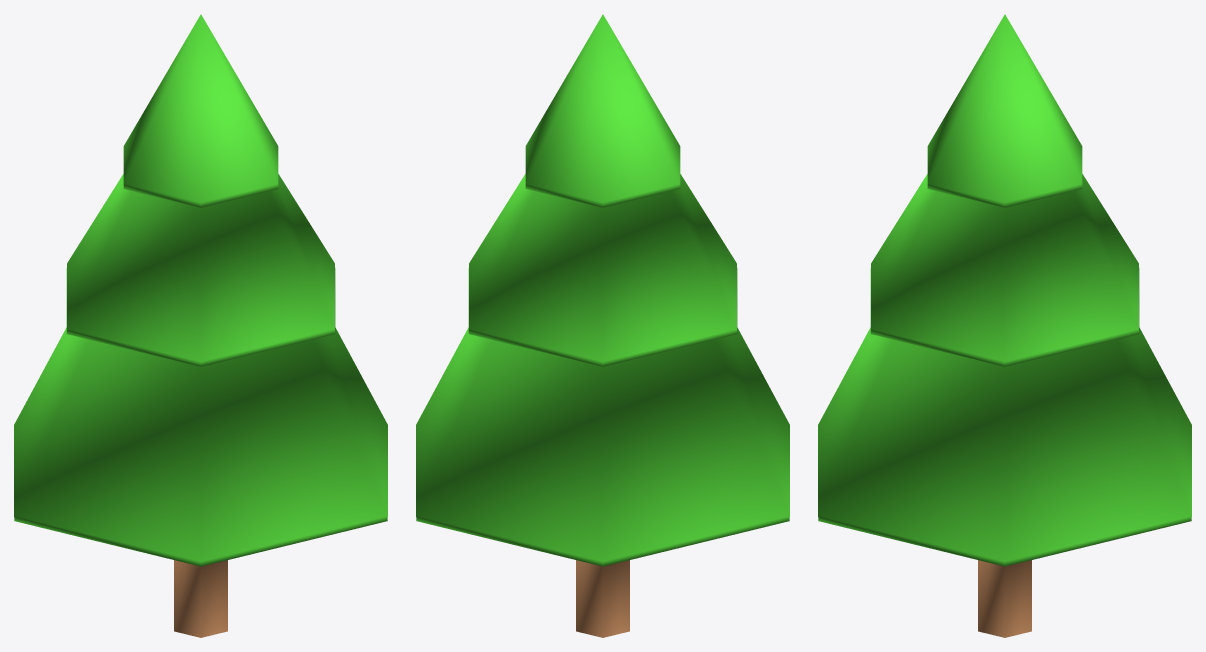
Rendered from small tree.fbx.
The picture shows the model from 3 angles, left to right: view 1: azimuth 30°, elevation 25°; view 2: azimuth 150°, elevation 25°; view 3: azimuth 270°, elevation 25°; orthographic projection.
Parts seen in each view (by area): view 1: Cone.045; view 2: Cone.045; view 3: Cone.045.
Boxes of the visible parts, x1,y1,x2,y2 form: Cone.045: (14, 14, 387, 637); Cone.045: (416, 14, 789, 637); Cone.045: (818, 14, 1191, 637).
Size of the model in its own units: 226 by 354 by 196.
